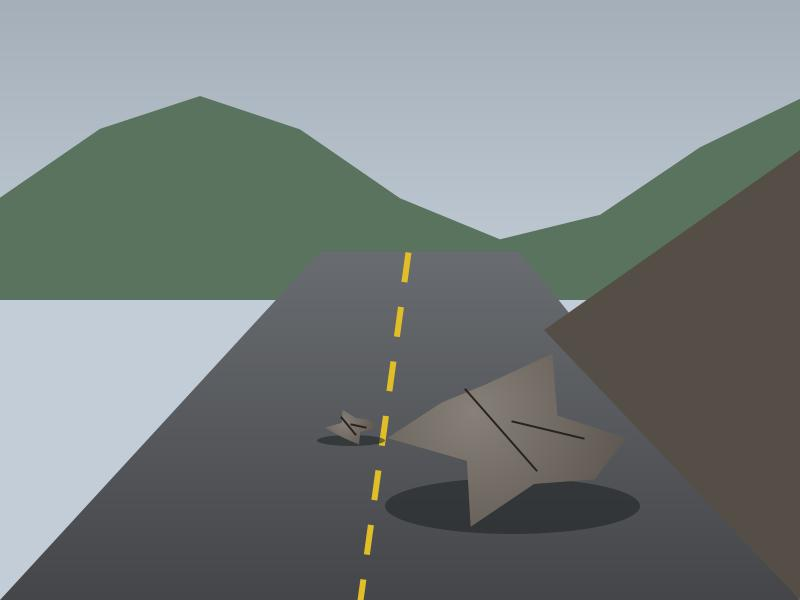ROAD_OBSTACLE: (395, 357, 630, 519), (327, 411, 375, 444)
